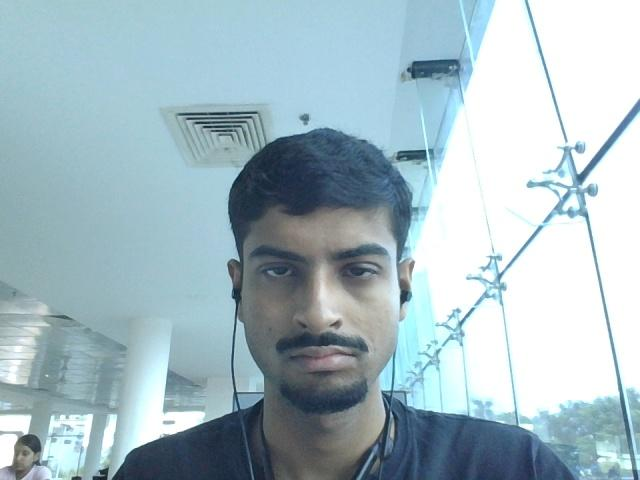confident: (212, 129, 448, 438)
